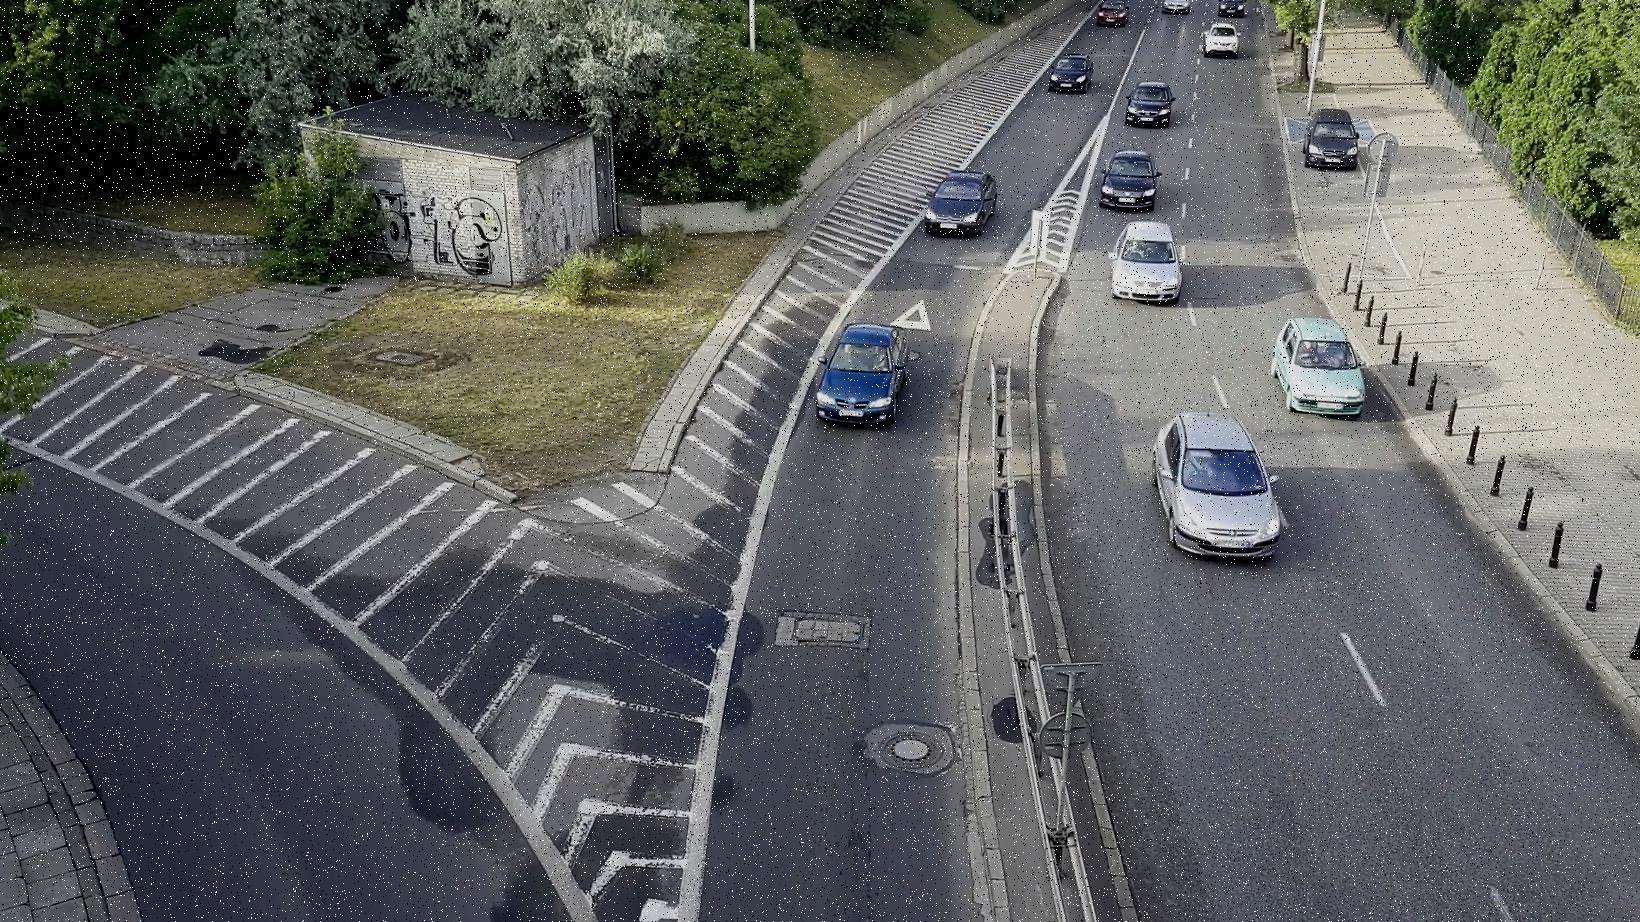car: (1144, 404, 1285, 558), (800, 315, 921, 441), (1272, 310, 1369, 423), (912, 160, 1007, 243), (1107, 212, 1188, 308), (1294, 99, 1366, 174), (1096, 137, 1162, 215), (1118, 73, 1183, 134), (1050, 43, 1098, 97), (1197, 14, 1242, 60), (1095, 0, 1135, 28)
